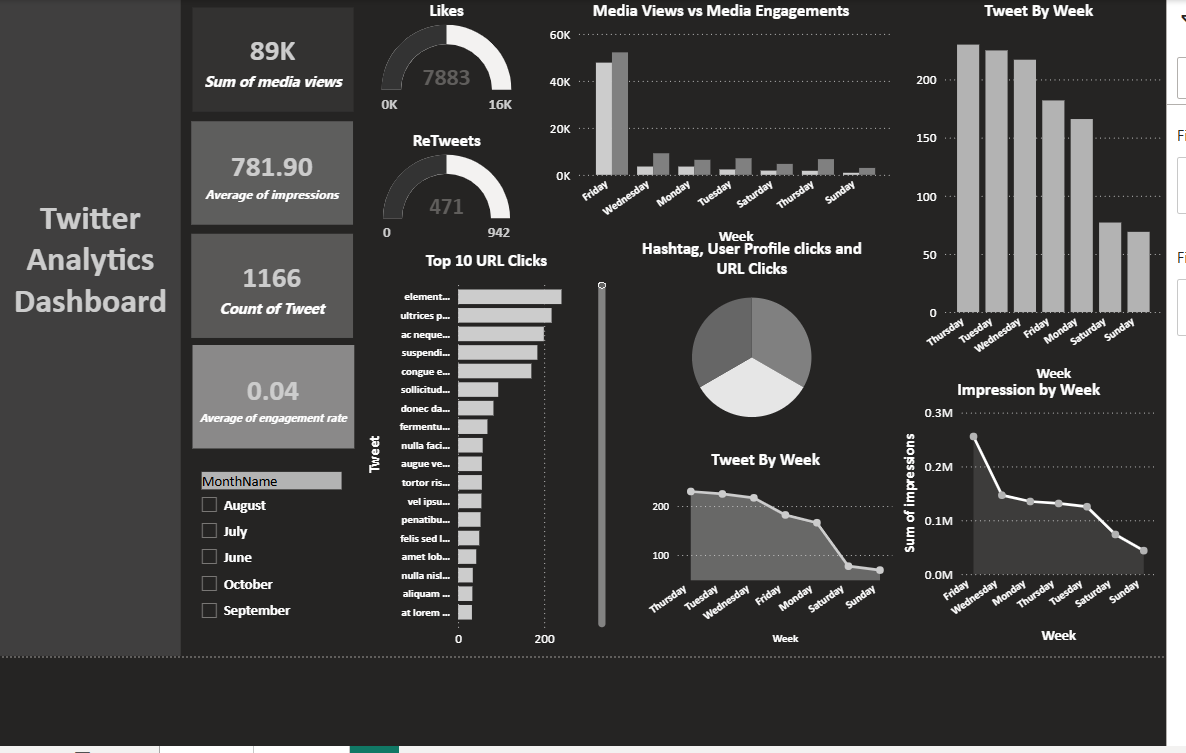

The dashboard page shown, as its layout file describes it:
{"tool":"powerbi","page":{"name":"Page 1","canvas":[1280,720],"ordinal":0},"visuals":[{"type":"textbox","box":[0,0,198.4,720.3],"z":0},{"type":"card","title":"Media Vi","fields":{"Values":["Sum(SocialMedia (1).media views)"]},"box":[210.9,7.8,176.6,114.1],"z":1000},{"type":"card","title":"Media Vi","fields":{"Values":["Avg(SocialMedia (1).engagement rate)"]},"box":[210.7,378.7,177.3,113.3],"z":2000},{"type":"card","title":"Media Vi","fields":{"Values":["CountNonNull(SocialMedia (1).Tweet)"]},"box":[209.3,256,177.3,114.7],"z":3000},{"type":"card","title":"Media Vi","fields":{"Values":["Avg(SocialMedia (1).impressions)"]},"box":[209.3,133.3,177.3,113.3],"z":4000},{"type":"gauge","title":"Likes","fields":{"Y":["Sum(SocialMedia (1).likes)"]},"box":[407.8,0,165.6,132.8],"z":5000},{"type":"gauge","title":"ReTweets","fields":{"Y":["Sum(SocialMedia (1).retweets)"]},"box":[407.8,142.2,165.6,131.2],"z":6000},{"type":"slicer","fields":{"Values":["SocialMedia (1).MonthName"]},"box":[209.1,513,179,198.6],"z":7000},{"type":"clusteredColumnChart","title":"Media Views vs Media Engagements","fields":{"Category":["SocialMedia (1).DayOfWeek"],"Y":["Sum(SocialMedia (1).media engagements)","Sum(SocialMedia (1).media views)"]},"box":[598.7,0,386.7,273.3],"z":8000},{"type":"columnChart","title":"Tweet By Week","fields":{"Category":["SocialMedia (1).DayOfWeek"],"Y":["CountNonNull(SocialMedia (1).Tweet)"]},"box":[1000,0,280,424],"z":9000},{"type":"areaChart","title":"Impression by Week","fields":{"Category":["SocialMedia (1).DayOfWeek"],"Y":["Sum(SocialMedia (1).impressions)"]},"box":[985.3,416,288,296],"z":10000},{"type":"pieChart","title":"Hashtag, User Profile clicks and URL Clicks","fields":{"Y":["CountNonNull(SocialMedia (1).hashtag clicks)","CountNonNull(SocialMedia (1).url clicks)","CountNonNull(SocialMedia (1).user profile clicks)"]},"box":[686.7,261.3,278.7,218.7],"z":11000},{"type":"clusteredBarChart","title":"Top 10 URL Clicks","fields":{"Category":["SocialMedia (1).Tweet"],"Y":["Sum(SocialMedia (1).url clicks)"]},"box":[397.3,274.7,272,445.3],"z":12000},{"type":"areaChart","title":"Tweet By Week","fields":{"Category":["SocialMedia (1).DayOfWeek"],"Y":["CountNonNull(SocialMedia (1).Tweet)"]},"box":[696,492,289.3,220],"z":13000}]}

Visuals, with their boxes on the page's 1280x720 design canvas (x1, y1, x2, y2). These are canvas units, not pixel positions in the 1186x753 screenshot, which may show the page scaled, cropped or inside an application window:
textbox: 0/0/198/720
"Media Vi" card: 211/8/388/122
"Media Vi" card: 211/379/388/492
"Media Vi" card: 209/256/387/371
"Media Vi" card: 209/133/387/247
"Likes" gauge: 408/0/573/133
"ReTweets" gauge: 408/142/573/273
slicer - SocialMedia (1).MonthName: 209/513/388/712
"Media Views vs Media Engagements" clusteredColumnChart: 599/0/985/273
"Tweet By Week" columnChart: 1000/0/1280/424
"Impression by Week" areaChart: 985/416/1273/712
"Hashtag, User Profile clicks and URL Clicks" pieChart: 687/261/965/480
"Top 10 URL Clicks" clusteredBarChart: 397/275/669/720
"Tweet By Week" areaChart: 696/492/985/712
